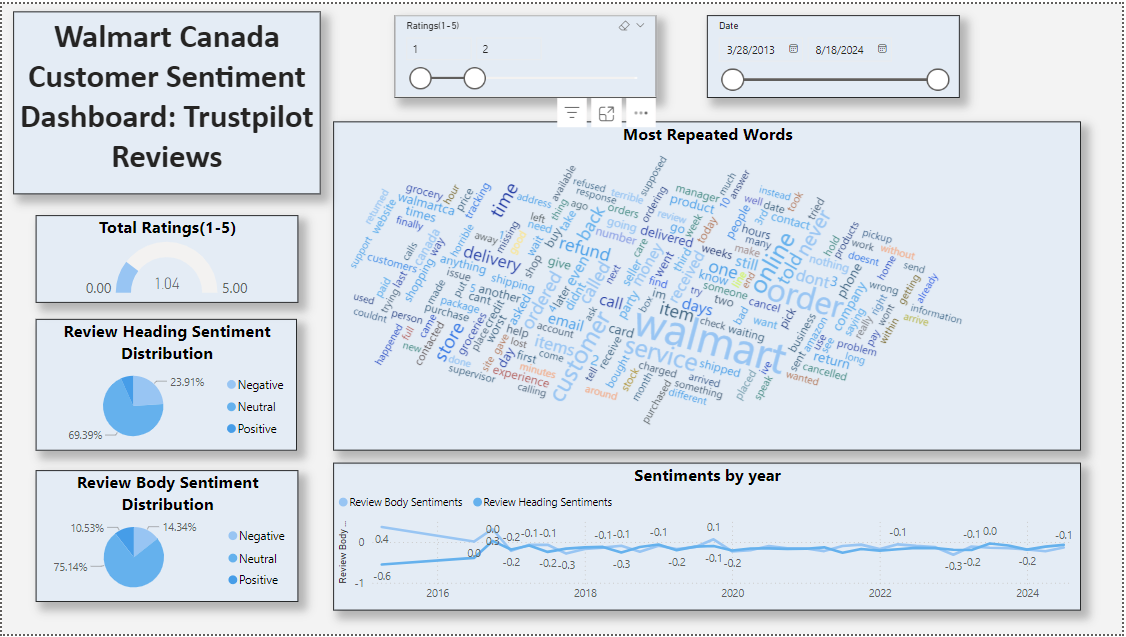

The dashboard page shown, as its layout file describes it:
{"tool":"powerbi","page":{"name":"Page 1","canvas":[1280,720],"ordinal":0},"visuals":[{"type":"pieChart","title":"Review Body Sentiment Distribution","fields":{"Y":["Avg(updated_reviews_with_sentiment1.Body Neg)","Avg(updated_reviews_with_sentiment1.Body Neu)","Avg(updated_reviews_with_sentiment1.Body Pos)"]},"box":[61.5,516.9,300.3,150.2],"z":0},{"type":"pieChart","title":"Review Heading Sentiment  Distribution ","fields":{"Y":["Avg(updated_reviews_with_sentiment1.Heading Neg)","Avg(updated_reviews_with_sentiment1.Heading Neu)","Avg(updated_reviews_with_sentiment1.Heading Pos)"]},"box":[61.5,347.1,299.1,150.2],"z":1000},{"type":"lineChart","title":"Sentiments by year","fields":{"Category":["updated_reviews_with_sentiment1.Date.Variation.Date Hierarchy.Year","updated_reviews_with_sentiment1.Date.Variation.Date Hierarchy.Quarter","updated_reviews_with_sentiment1.Date.Variation.Date Hierarchy.Month","updated_reviews_with_sentiment1.Date.Variation.Date Hierarchy.Day"],"Y":["Avg(updated_reviews_with_sentiment1.Body Compound)","Avg(updated_reviews_with_sentiment1.Heading Compound)"]},"box":[378.2,532.4,855.3,168.7],"z":2000},{"type":"WordCloud1447959067750","title":"Most Repeated Words","fields":{"Category":["updated_reviews_with_sentiment1.Cleaned Review Body"]},"box":[404.9,121.8,801.2,395.1],"z":3000},{"type":"gauge","fields":{"Y":["Avg(updated_reviews_with_sentiment1.Ratings(1-5))"]},"box":[61.5,227.7,300,100],"z":4000},{"type":"slicer","fields":{"Values":["updated_reviews_with_sentiment1.Date"]},"box":[823.4,11.1,288,94.8],"z":5000},{"type":"slicer","fields":{"Values":["updated_reviews_with_sentiment1.Ratings(1-5)"]},"box":[449.2,12.3,299.1,94.8],"z":6000},{"type":"textbox","box":[13.1,0,365.1,197.8],"z":7000}]}

Visuals, with their boxes in screenshot pixels (x1, y1, x2, y2), scaled from the page's 1280x720 canvas onto the 1126x637 screenshot:
"Review Body Sentiment Distribution" pieChart: <bbox>54, 457, 318, 590</bbox>
"Review Heading Sentiment  Distribution " pieChart: <bbox>54, 307, 317, 440</bbox>
"Sentiments by year" lineChart: <bbox>333, 471, 1085, 620</bbox>
"Most Repeated Words" WordCloud1447959067750: <bbox>356, 108, 1061, 457</bbox>
gauge - Avg(updated_reviews_with_sentiment1.Ratings(1-5)): <bbox>54, 201, 318, 290</bbox>
slicer - updated_reviews_with_sentiment1.Date: <bbox>724, 10, 978, 94</bbox>
slicer - updated_reviews_with_sentiment1.Ratings(1-5): <bbox>395, 11, 658, 95</bbox>
textbox: <bbox>12, 0, 333, 175</bbox>
